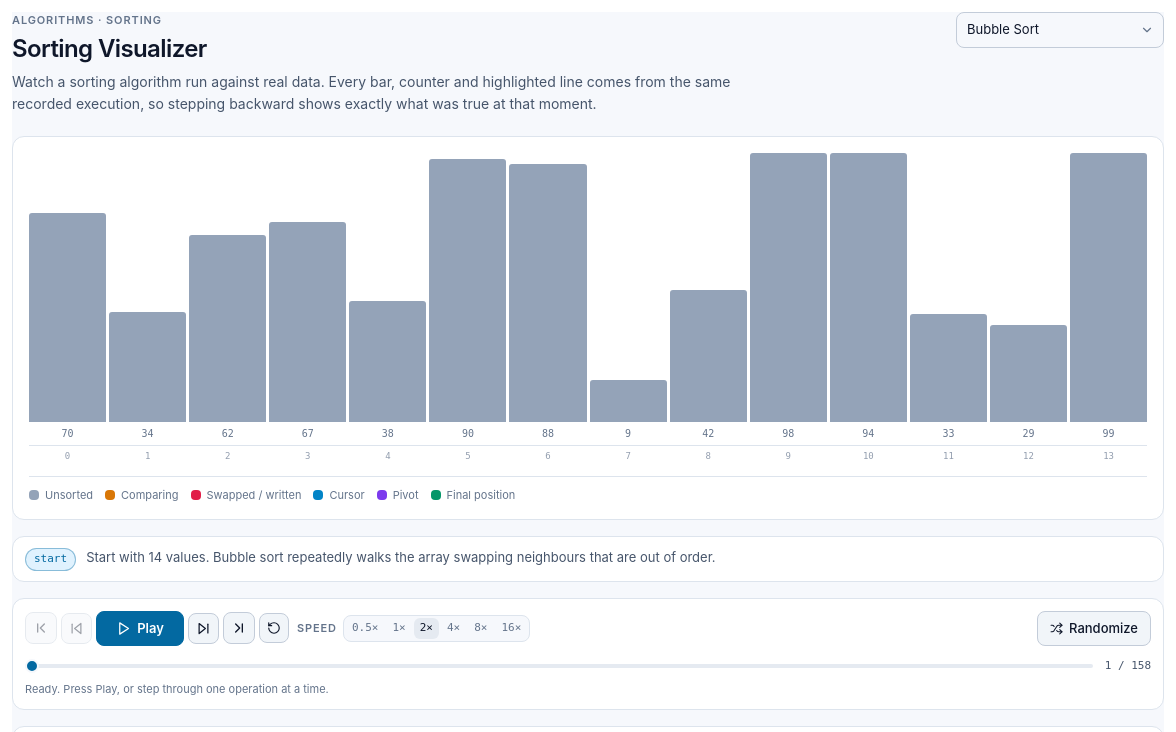
SortingPage › switching algorithm reloads the trace from the first step
The image size is (1176, 732).
Click the button named "Go to last step" at (239, 628), box [223,612,255,644]
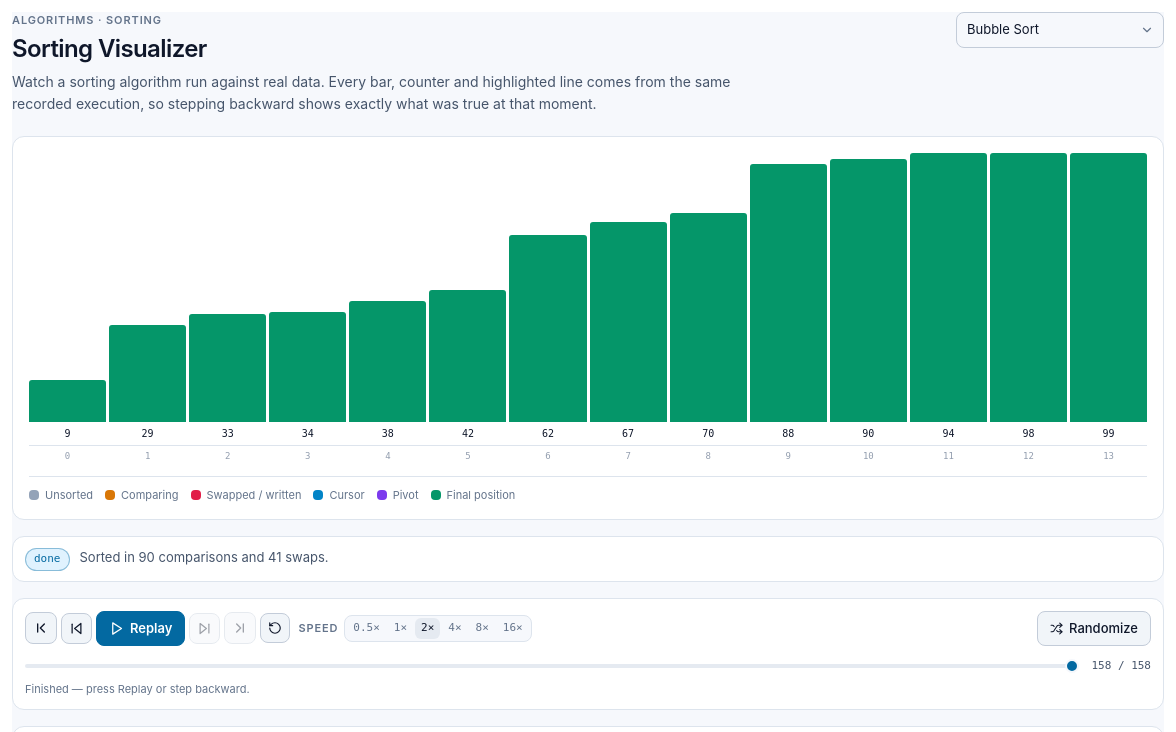
Select "Merge Sort" in the dropdown named "Algorithm" at (1060, 30), box [956,12,1164,48]
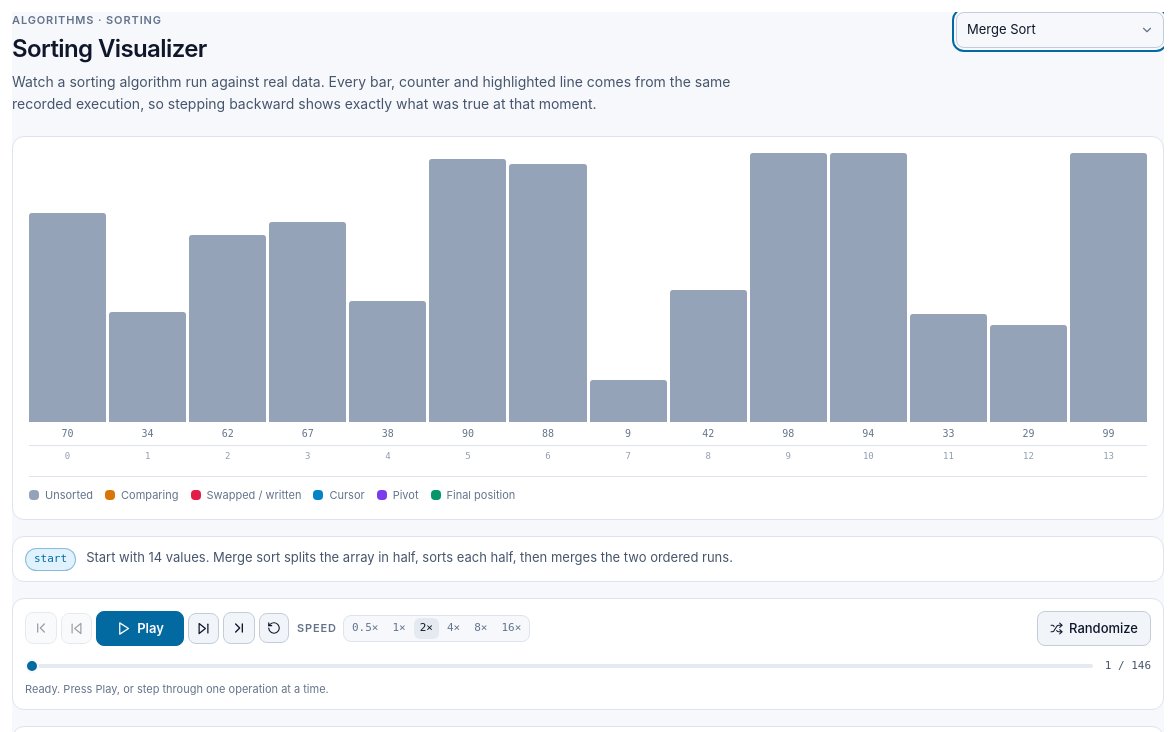
Now the text "1 / 146" is shown, box [1105,658,1151,674]
